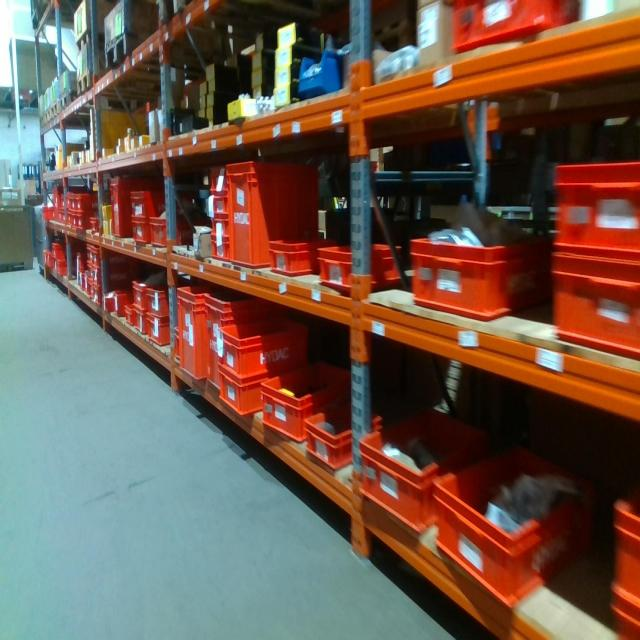pallet: (103, 29, 144, 69), (70, 23, 103, 53), (75, 74, 98, 105), (59, 94, 74, 112), (41, 108, 51, 131), (50, 97, 58, 123)
small_load_carrier: (434, 446, 596, 609), (357, 403, 494, 538), (411, 233, 552, 321), (551, 250, 638, 365), (549, 148, 639, 256), (229, 160, 318, 268), (258, 356, 363, 445), (445, 1, 578, 51), (216, 312, 312, 381), (202, 291, 264, 397), (316, 235, 404, 302), (304, 398, 366, 471), (178, 279, 212, 382), (608, 494, 638, 601), (216, 363, 267, 416), (270, 235, 320, 281), (110, 175, 143, 237), (147, 217, 200, 250), (603, 593, 639, 638), (132, 189, 177, 215), (92, 245, 128, 275), (145, 316, 170, 356), (145, 287, 175, 320), (207, 163, 230, 196), (95, 268, 134, 287), (58, 257, 83, 282), (73, 195, 104, 213), (130, 278, 147, 308), (112, 290, 134, 313), (209, 239, 231, 261), (208, 197, 229, 219), (208, 219, 231, 239), (132, 214, 146, 242), (78, 213, 93, 234), (126, 304, 138, 327), (136, 308, 146, 332), (51, 239, 66, 255), (83, 245, 94, 266), (88, 217, 99, 231), (86, 264, 95, 280), (96, 293, 105, 308), (88, 284, 95, 300)
